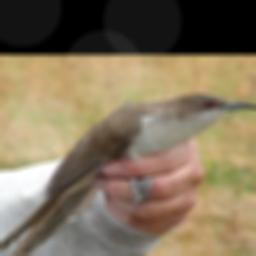Cuckoo: (0, 92, 256, 256)
